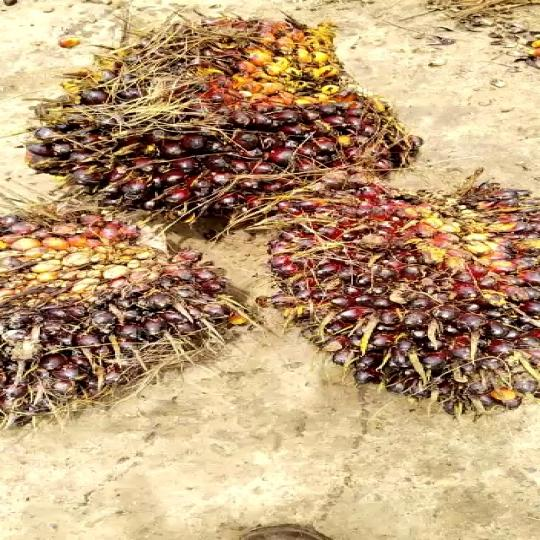kurang masak: (23, 12, 440, 226), (250, 183, 540, 404), (0, 210, 257, 410)
